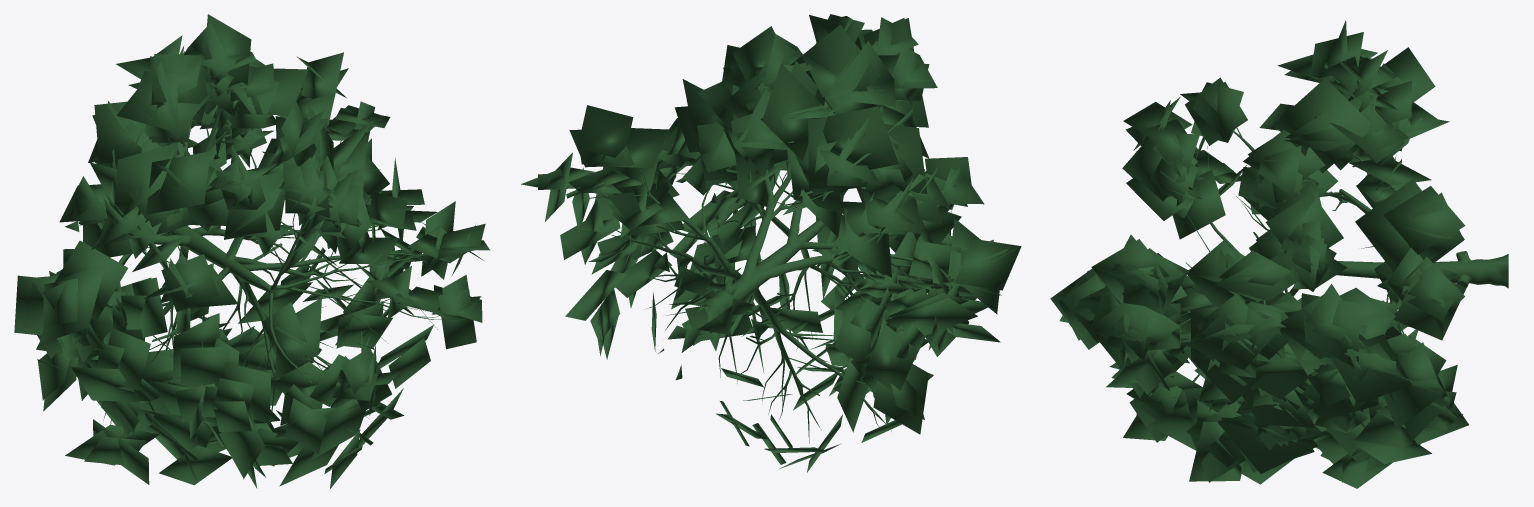
The model's file is conifer.glb.
3 renders of one model, left to right at view 1: azimuth 30°, elevation 25°; view 2: azimuth 150°, elevation 25°; view 3: azimuth 270°, elevation 25°, orthographic.
Visible parts, largest first — view 1: treeplan1; view 2: treeplan1; view 3: treeplan1.
Part boxes in pixels (<box>): treeplan1: <box>14,14,489,488</box>; treeplan1: <box>521,14,1021,472</box>; treeplan1: <box>1050,20,1508,488</box>.
Size of the model in its own units: 10.88 by 11 by 10.42.
